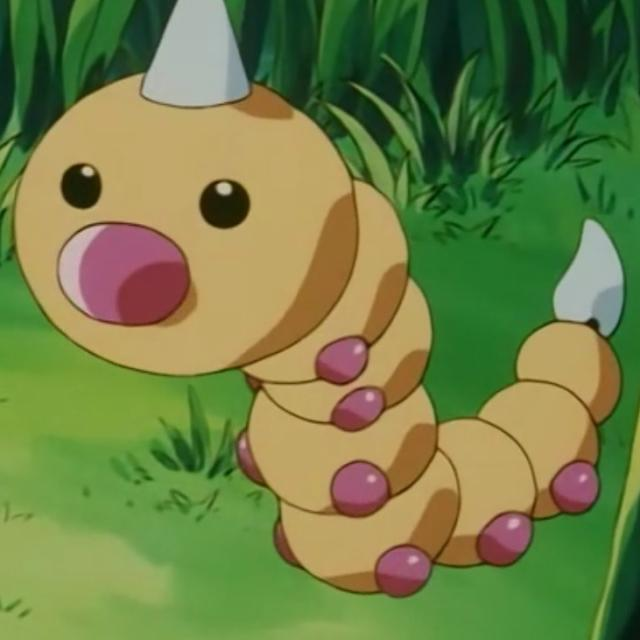Weedle: (14, 65, 607, 585)
